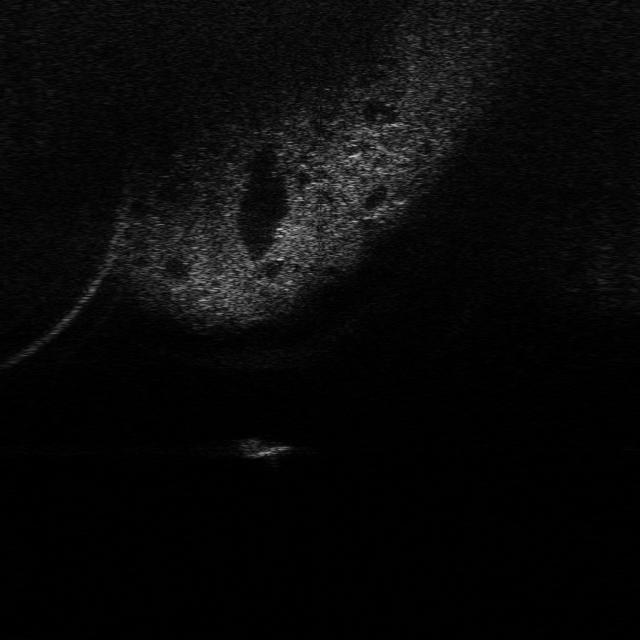cube: (228, 431, 300, 462)
